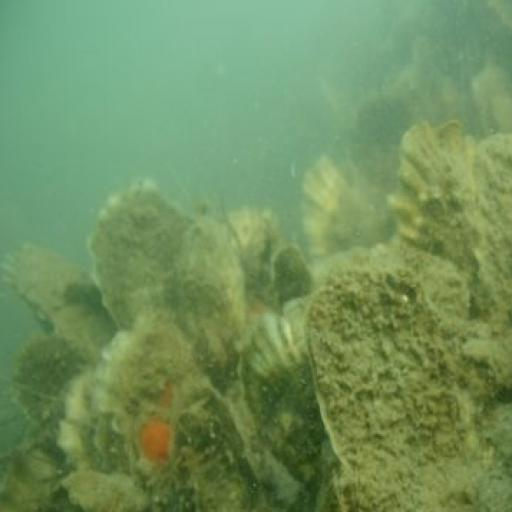Oyster-Closed: (308, 262, 501, 512), (98, 182, 249, 360)
Oyster-Open: (62, 326, 262, 512)
